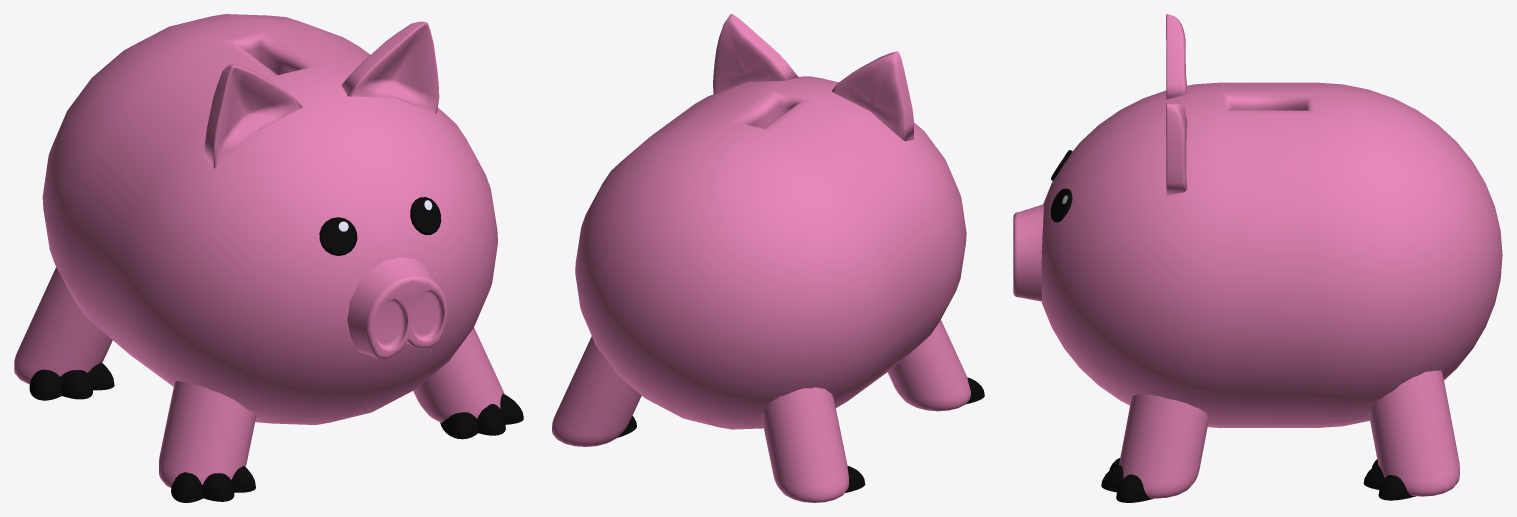
Rendered from Cofrinho.fbx.
3 renders of one model, left to right at view 1: azimuth 30°, elevation 25°; view 2: azimuth 150°, elevation 25°; view 3: azimuth 270°, elevation 25°, orthographic. The views are drawn at different scales.
Parts seen in each view (by area): view 1: Corpo, Fucinho, Pata F E, Pata T E, Orelha Direita, Orelha Esquerda, Pata F D, Olho Esquerdo, Olho Direito, Sphere012, Sphere010, Sphere003 (+3 smaller); view 2: Corpo, Pata T E, Pata T D, Pata F E, Orelha Esquerda, Orelha Direita; view 3: Corpo, Pata T D, Pata F D, Fucinho, Orelha Direita, Orelha Esquerda, Sphere006, Sphere009.
Part boxes in pixels (x1,y1,x2,y2): Corpo: (42,14,497,424); Fucinho: (347,257,447,358); Pata F E: (159,381,256,487); Pata T E: (14,267,112,384); Orelha Direita: (341,21,439,113); Orelha Esquerda: (204,64,302,168); Pata F D: (413,328,504,422); Olho Esquerdo: (319,217,357,255); Olho Direito: (410,197,441,234); Sphere012: (29,369,61,400); Sphere010: (60,370,92,399); Sphere003: (171,472,202,502); Corpo: (575,76,966,429); Pata T E: (761,387,849,502); Pata T D: (552,336,641,446); Pata F E: (887,319,970,411); Orelha Esquerda: (831,51,914,141); Orelha Direita: (713,14,798,93); Corpo: (1041,82,1502,427); Pata T D: (1368,370,1459,496); Pata F D: (1119,394,1208,498); Fucinho: (1013,204,1043,301); Orelha Direita: (1166,103,1187,195); Orelha Esquerda: (1166,14,1186,99); Sphere006: (1116,474,1153,502); Sphere009: (1378,475,1415,500).
Bounding box in the file's own units: 40.63 × 44.31 × 53.29.
